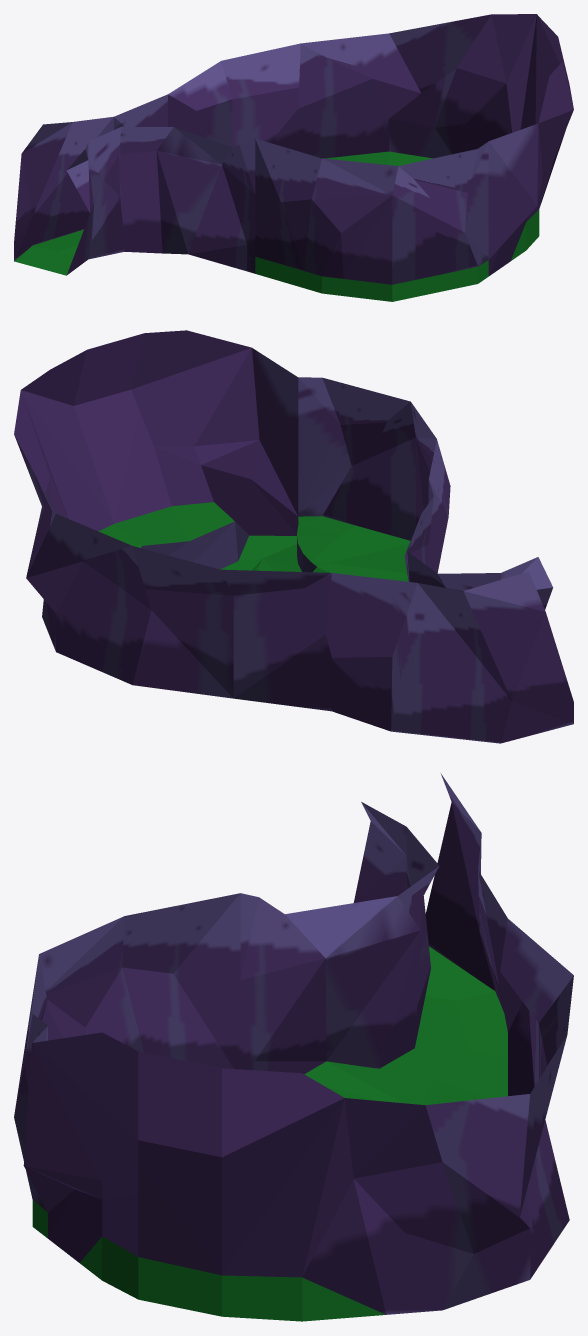
The model's file is Mapa Base.fbx.
3 renders of one model, top to bottom at view 1: azimuth 30°, elevation 25°; view 2: azimuth 150°, elevation 25°; view 3: azimuth 270°, elevation 25°, orthographic. The views are drawn at different scales.
Parts seen in each view (by area): view 1: Mapa Base; view 2: Mapa Base; view 3: Mapa Base.
Part boxes in pixels (x1,y1,x2,y2): Mapa Base: (14, 14, 573, 301); Mapa Base: (14, 330, 573, 743); Mapa Base: (14, 774, 573, 1321).
Bounding box in the file's own units: 57424 × 35553 × 19140.
Materials: 2 (1 with a texture image).
